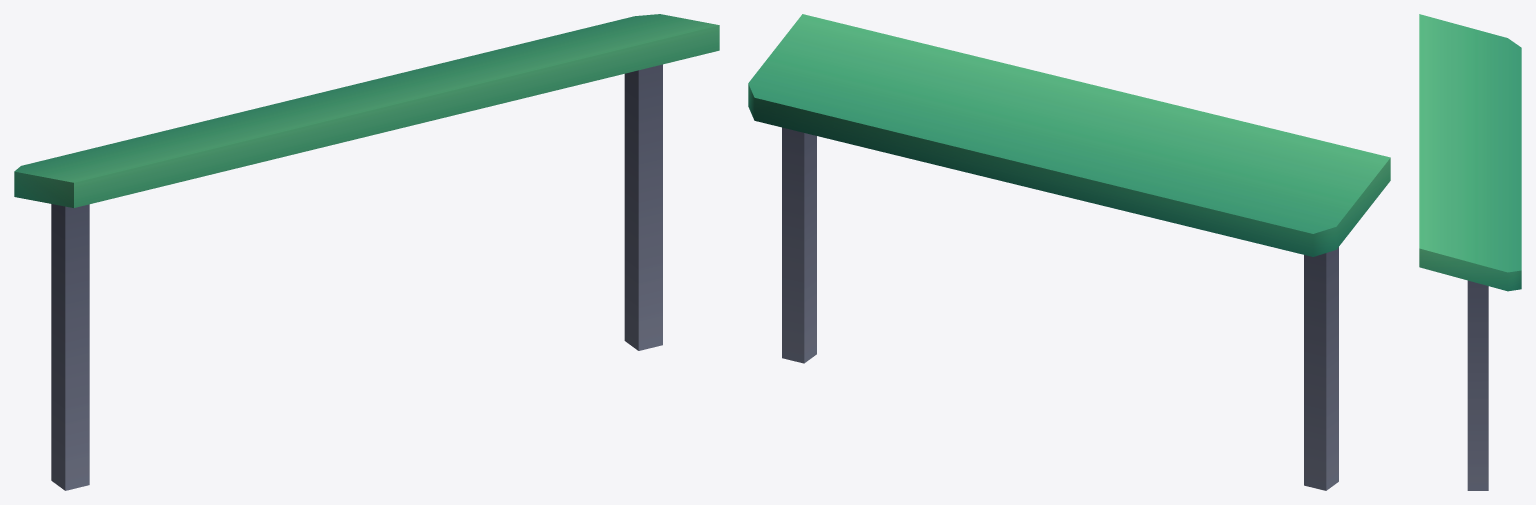
Rendered from detail-awning-wide.glb.
3 views of the same model, side by side, from view 1: azimuth 30°, elevation 25°; view 2: azimuth 150°, elevation 25°; view 3: azimuth 270°, elevation 25° (orthographic). The views are drawn at different scales.
Parts seen in each view (by area): view 1: detail-awning-wide; view 2: detail-awning-wide; view 3: detail-awning-wide.
Boxes of the visible parts, left/top/right/bottom form: detail-awning-wide: left=14, top=14, right=719, bottom=490; detail-awning-wide: left=748, top=14, right=1390, bottom=490; detail-awning-wide: left=1419, top=14, right=1521, bottom=490.
Size of the model in its own units: 0.8 by 0.4 by 0.1479.
Materials: 1 (1 with a texture image).
